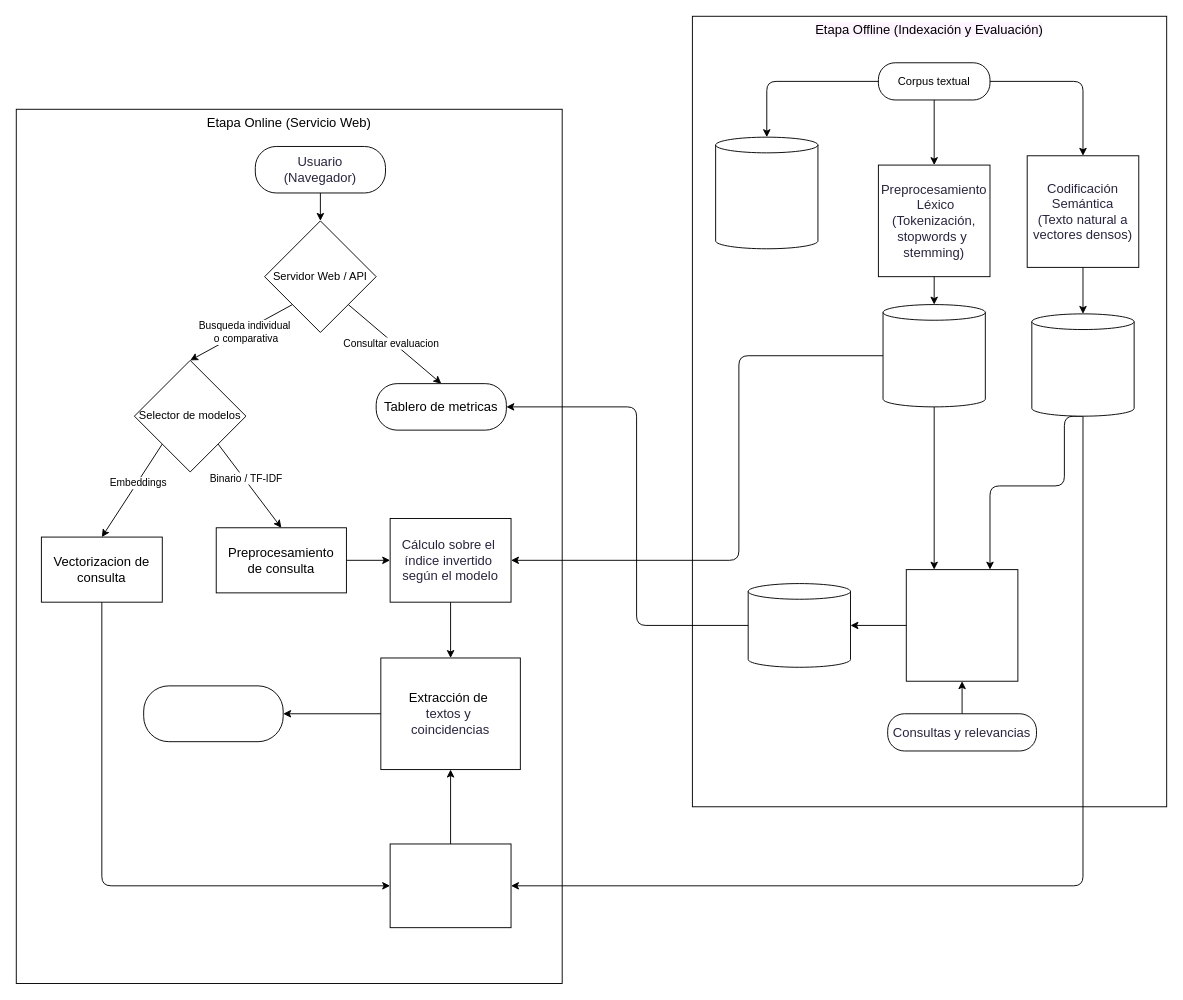
This 1183x1000 diagram has some shape labels left out. The centre of each missing label's shape, as x and y in pixels:
"Almacén de Textos (Títulos y contenido original)" belongs at (x=766, y=192).
"Base de Datos Vectorial (Vectores normalizados)" belongs at (x=1082, y=364).
"Búsqueda Vectorial por Similitud coseno" belongs at (x=450, y=885).
"Evaluación de los 4 Modelos (Precision, Recall, MAP y divergencias)" belongs at (x=961, y=625).
"Metricas y casos precalculados" belongs at (x=798, y=625).
"Ranking Top-N en Pantalla" belongs at (x=213, y=713).
"Índice Invertido (Términos, frecuencias y normas)" belongs at (x=933, y=355).
